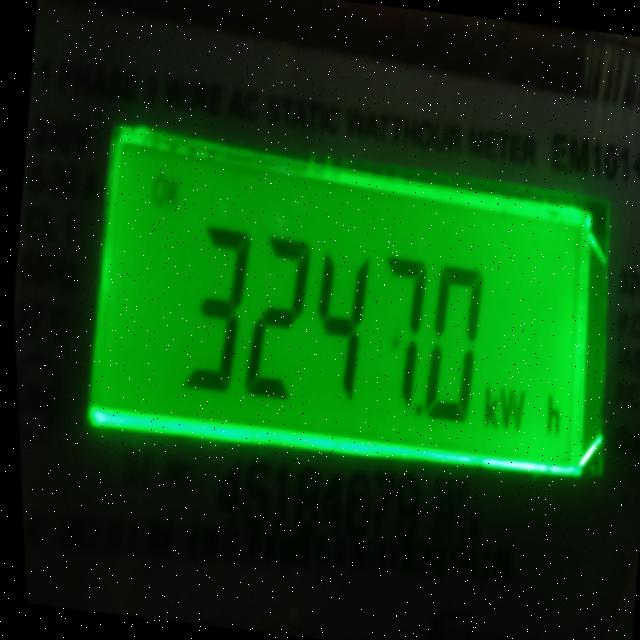.: (407, 398, 423, 428)
0: (414, 256, 492, 426)
3: (234, 222, 322, 408), (176, 216, 256, 401)
4: (298, 233, 377, 407)
7: (362, 243, 431, 411)
